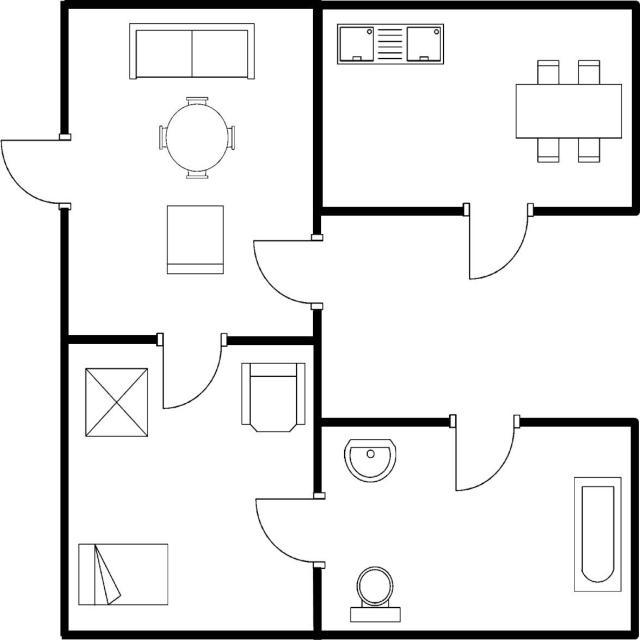armchair: (237, 358, 309, 436)
bed: (75, 539, 172, 609)
coffee_table: (80, 364, 152, 441)
dining_table: (511, 54, 625, 165)
large_sink: (344, 561, 406, 626)
large_sofa: (123, 17, 260, 85)
round_table: (154, 92, 240, 182)
small_sink: (338, 435, 399, 485)
small_sofa: (162, 200, 226, 280)
tub: (570, 471, 626, 598)
twin_sink: (332, 20, 447, 68)
